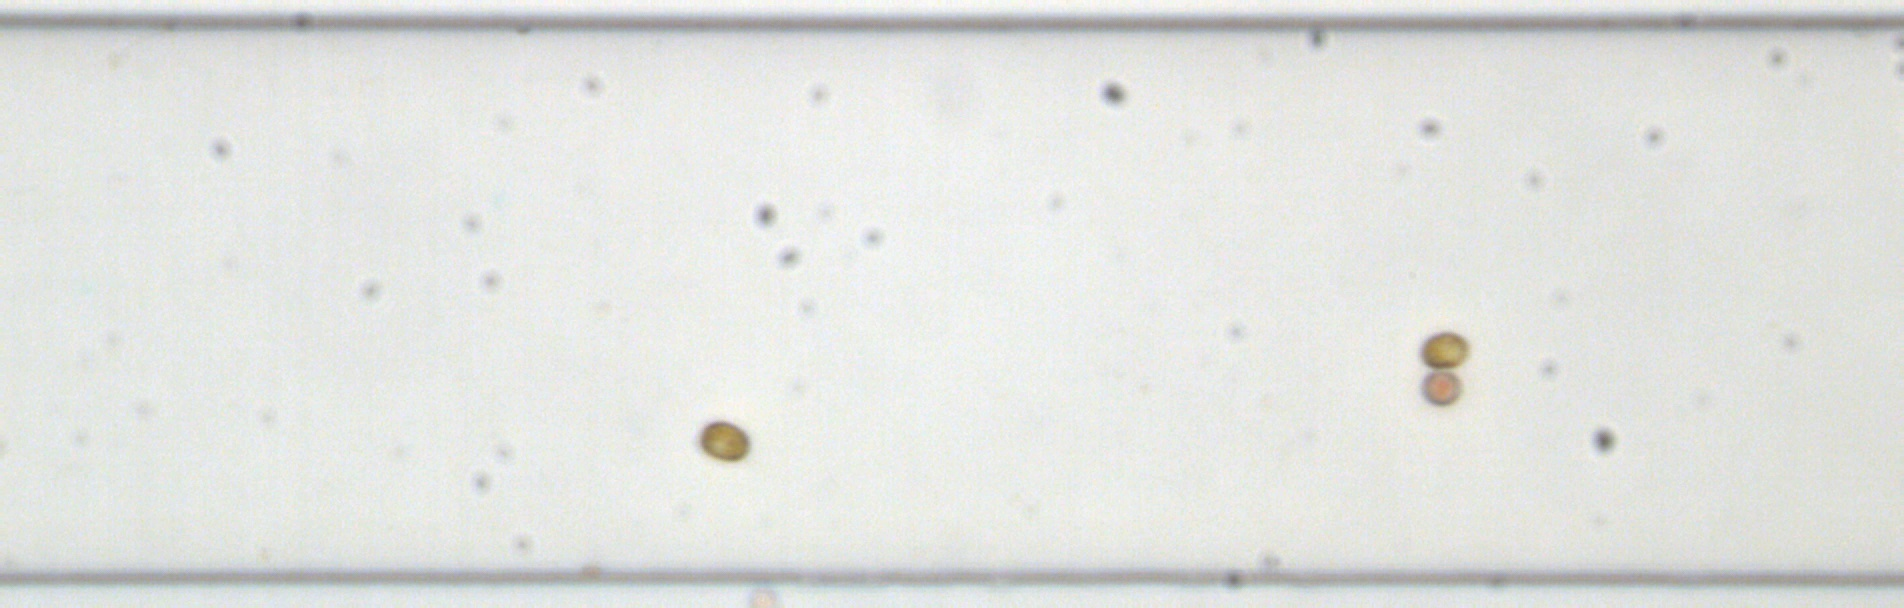Effrenium: (695, 417, 754, 464), (1413, 329, 1470, 371)
Porphyridium: (1417, 366, 1463, 409)
